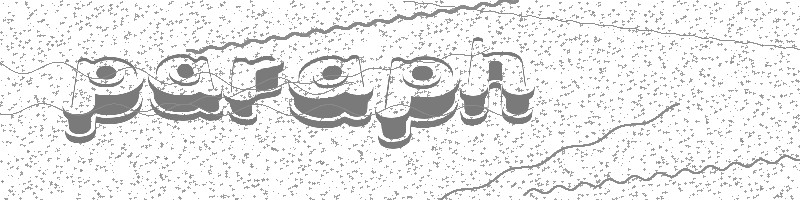a: (283, 53, 376, 130), (146, 49, 226, 124)
h: (459, 34, 537, 129)
p: (56, 53, 147, 148), (376, 55, 460, 149)
r: (224, 53, 286, 126)
